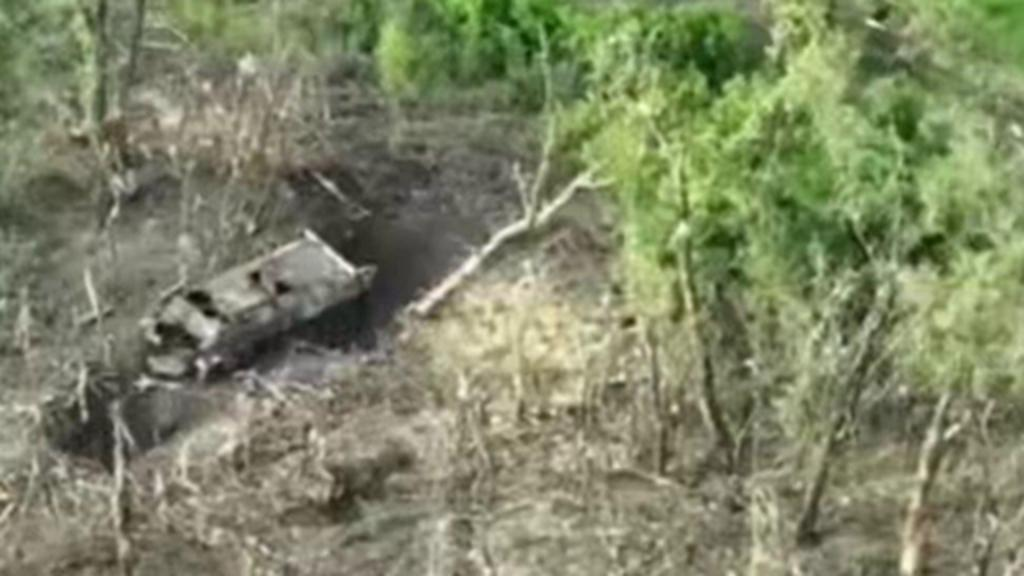APC-IFV: (122, 208, 378, 380)
